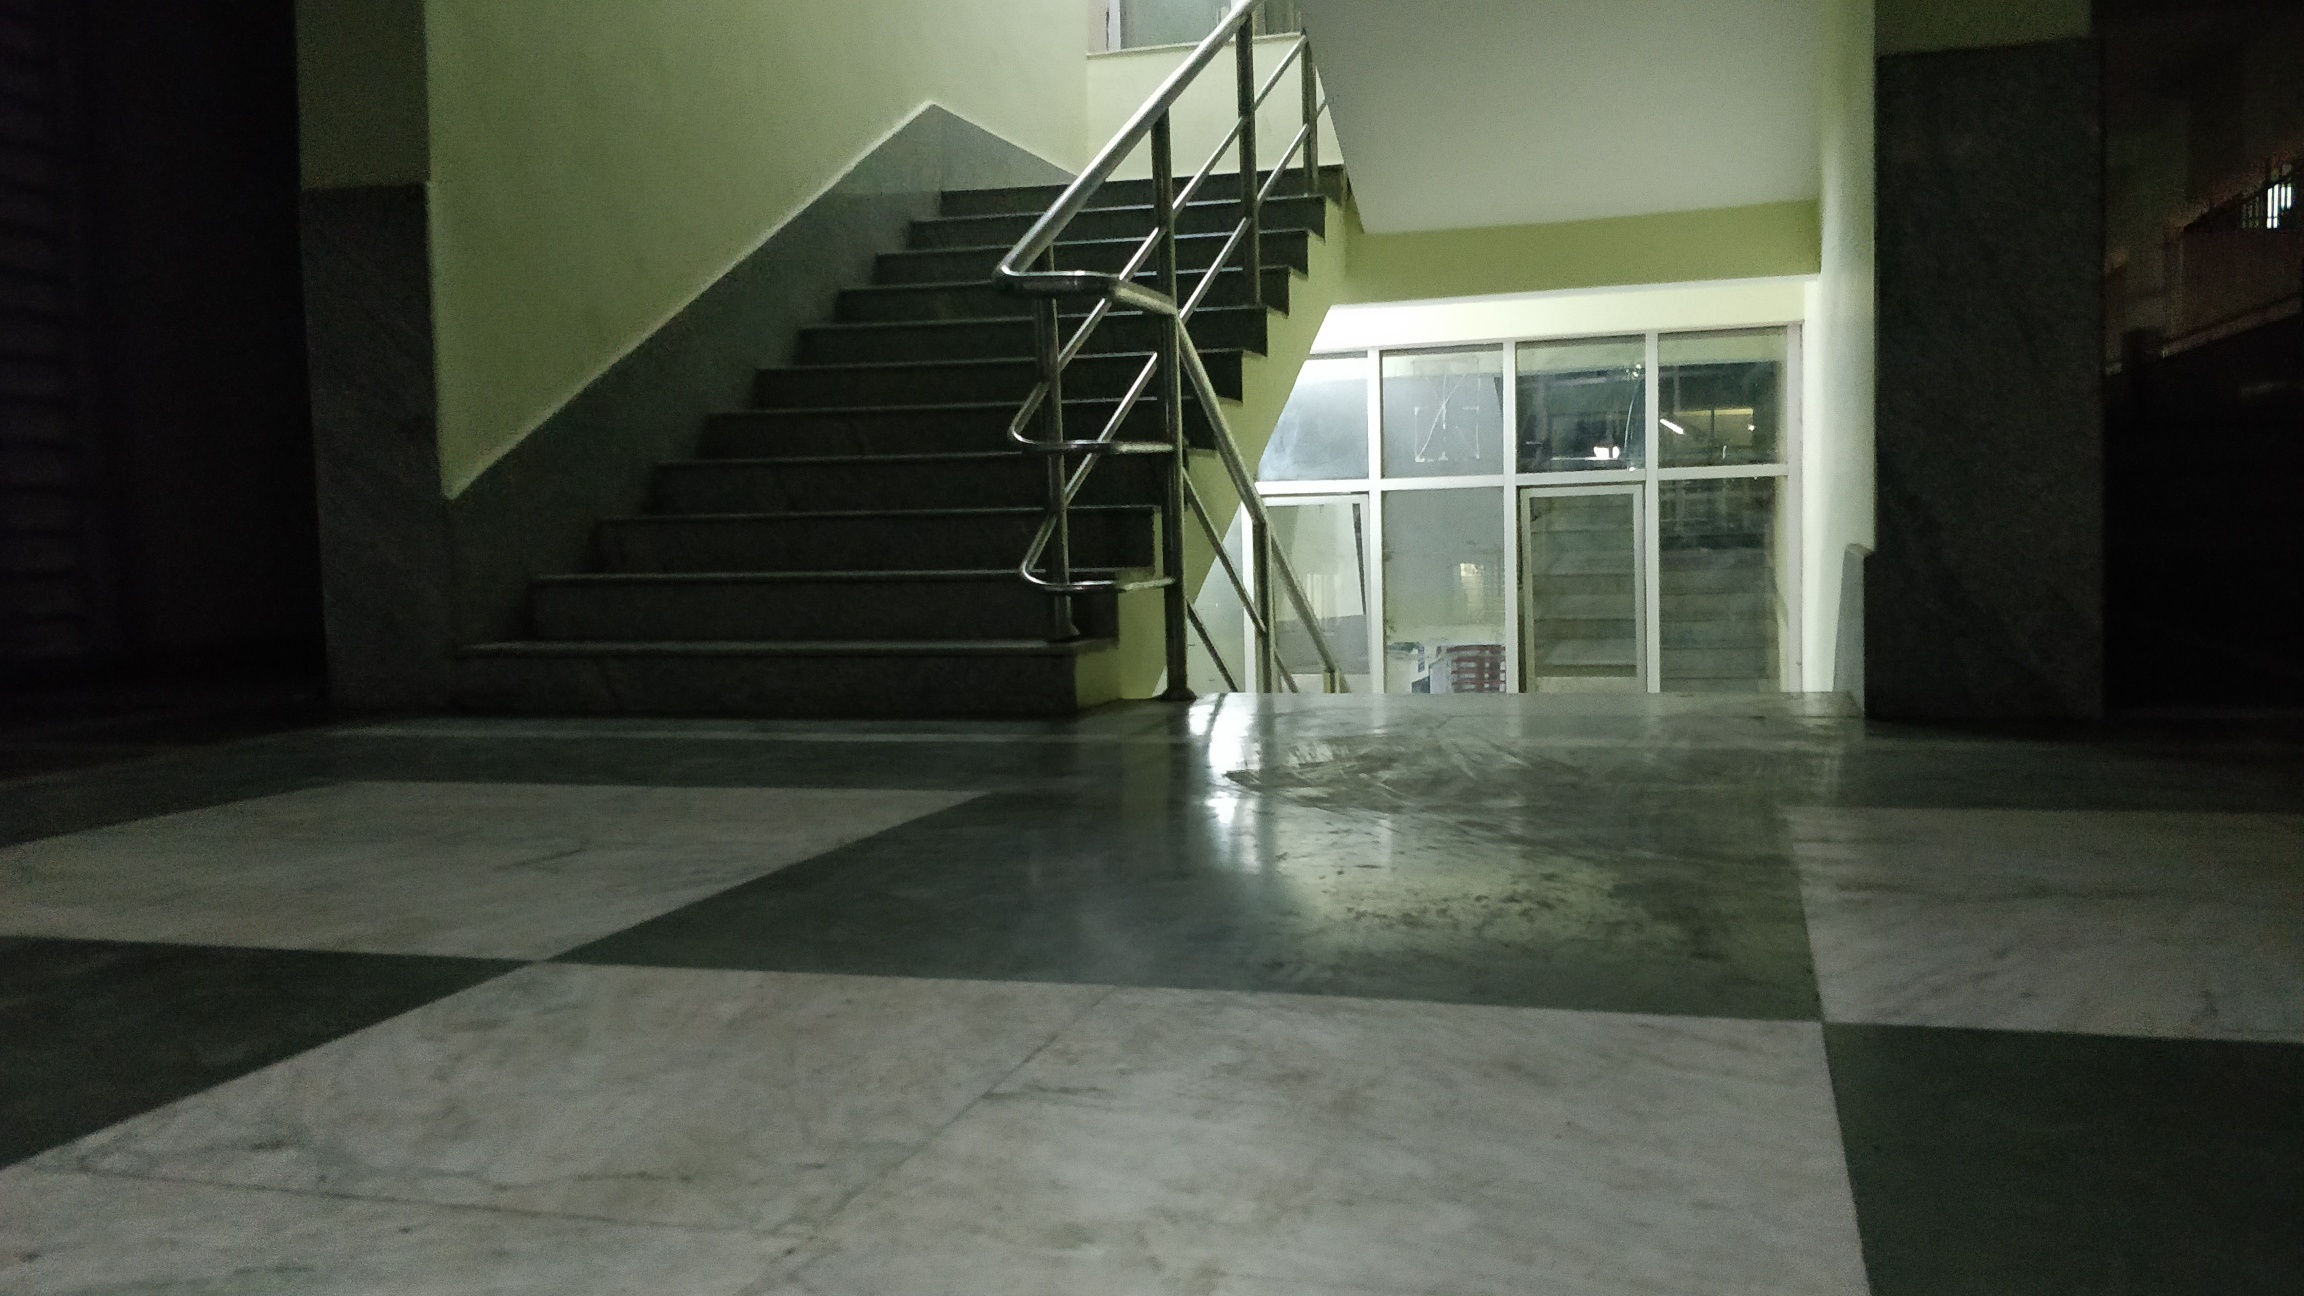stairs_up: (426, 152, 1336, 701)
